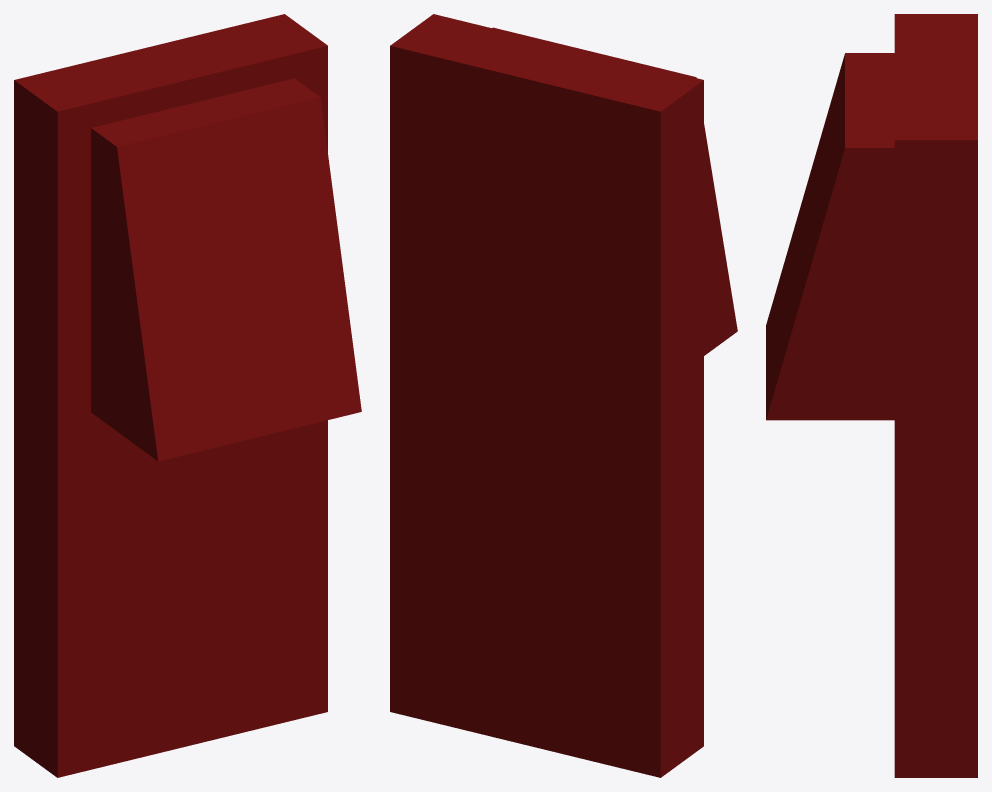
File: SM_Console.fbx
The picture shows the model from 3 angles, left to right: view 1: azimuth 30°, elevation 25°; view 2: azimuth 150°, elevation 25°; view 3: azimuth 270°, elevation 25°; orthographic projection. The views are drawn at different scales.
Visible parts, largest first — view 1: SM_Console; view 2: SM_Console; view 3: SM_Console.
Part boxes in pixels (x1,y1,x2,y2): SM_Console: [14, 14, 361, 777]; SM_Console: [390, 14, 737, 777]; SM_Console: [766, 14, 977, 777].
Bounding box in the file's own units: 3.09 × 7.27 × 2.19.
